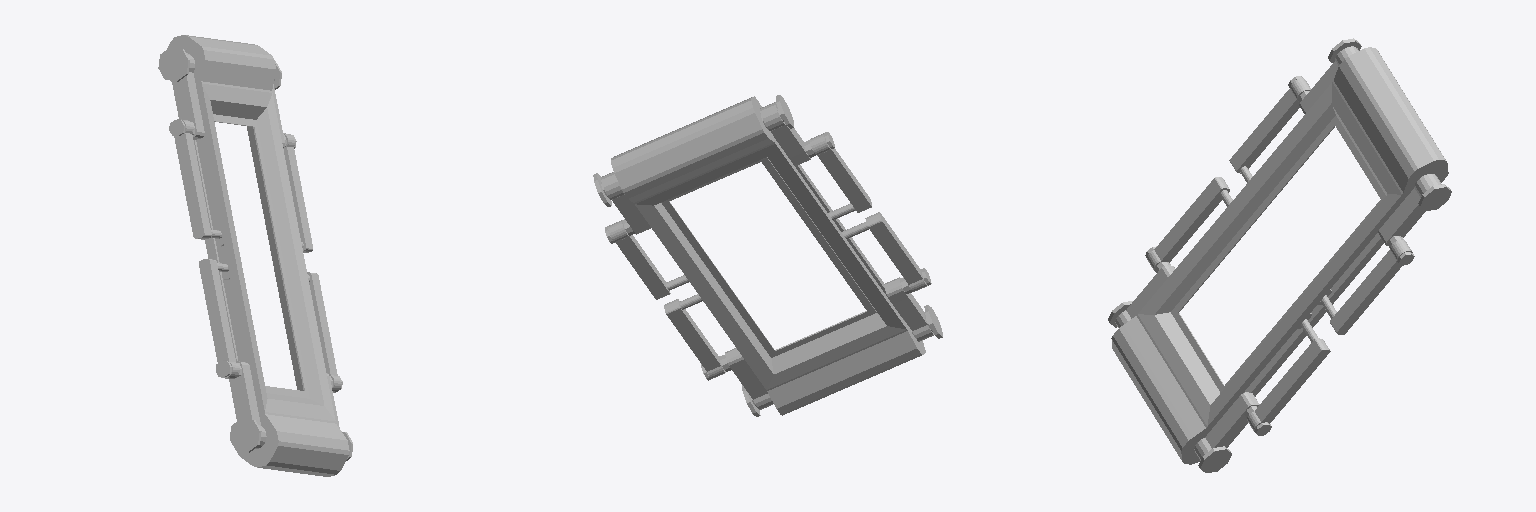
3 views of the same model, side by side, from view 1: azimuth 30°, elevation 25°; view 2: azimuth 150°, elevation 25°; view 3: azimuth 270°, elevation 25° (orthographic).
Parts seen in each view (by area): view 1: Base, Chain_2.001, Chain_2, Chain_1.001, Chain_1, Chain_2.002, Chain_2.003; view 2: Base, Chain_2, Chain_2.001, Chain_2.003, Chain_2.002, Chain_1, Chain_1.001, Chain_1.003, Chain_1.002; view 3: Base, Chain_2.003, Chain_2.002, Chain_2, Chain_2.001, Chain_1.003, Chain_1.002, Chain_1, Chain_1.001.
Part boxes in pixels (bbox=[...]): Base: bbox=[158, 35, 352, 476]; Chain_2.001: bbox=[174, 119, 223, 246]; Chain_2: bbox=[199, 257, 239, 378]; Chain_1.001: bbox=[169, 53, 204, 139]; Chain_1: bbox=[216, 361, 266, 448]; Chain_2.002: bbox=[283, 133, 312, 252]; Chain_2.003: bbox=[307, 272, 341, 392]; Base: bbox=[593, 95, 942, 416]; Chain_2: bbox=[842, 212, 927, 291]; Chain_2.001: bbox=[810, 133, 871, 219]; Chain_2.003: bbox=[664, 294, 725, 378]; Chain_2.002: bbox=[608, 220, 688, 299]; Chain_1: bbox=[884, 268, 933, 341]; Chain_1.001: bbox=[760, 102, 834, 165]; Chain_1.003: bbox=[701, 348, 773, 409]; Chain_1.002: bbox=[601, 172, 650, 243]; Base: bbox=[1108, 38, 1451, 472]; Chain_2.003: bbox=[1247, 313, 1330, 430]; Chain_2.002: bbox=[1318, 240, 1412, 334]; Chain_2: bbox=[1147, 177, 1232, 270]; Chain_2.001: bbox=[1229, 78, 1310, 182]; Chain_1.003: bbox=[1194, 392, 1271, 460]; Chain_1.002: bbox=[1378, 174, 1441, 265]; Chain_1: bbox=[1115, 246, 1174, 327]; Chain_1.001: bbox=[1288, 46, 1358, 113].
Size of the model in its own units: 6.68 by 12.35 by 9.87.